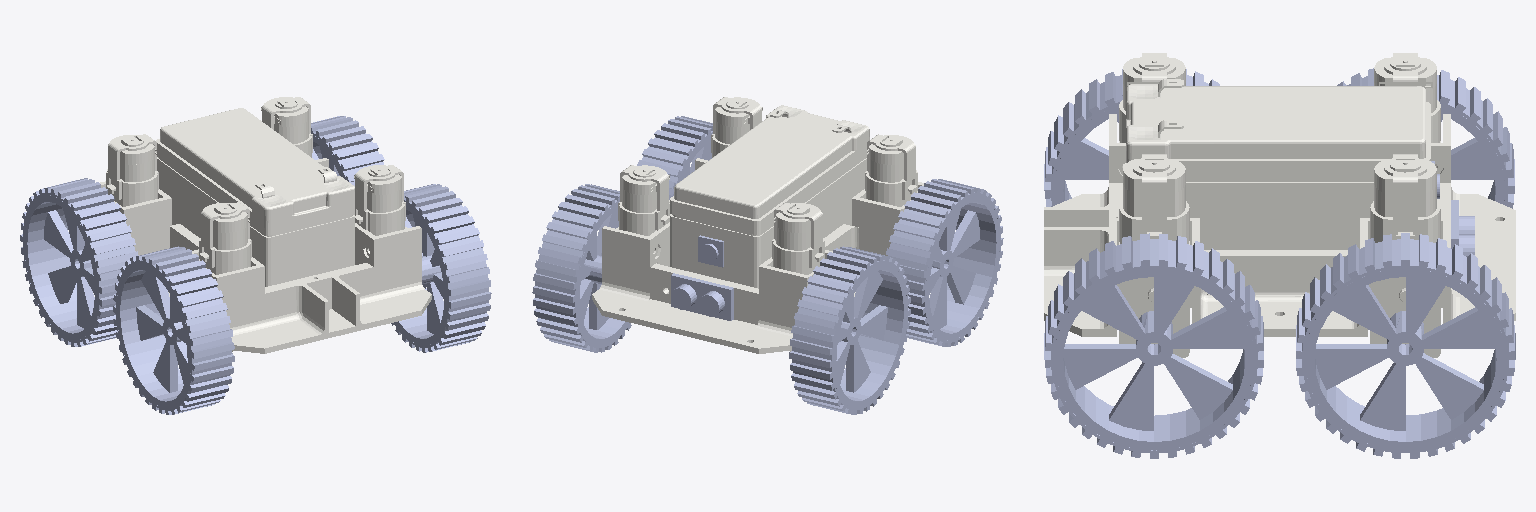
URDF robot description (car_model_v2):
<?xml version="1.0" encoding="utf-8"?>
<!-- This URDF was automatically created by SolidWorks to URDF Exporter! Originally created by [author] ([email redacted]) 
     Commit Version: 1.6.0-4-g7f85cfe  Build Version: 1.6.7995.38578
     For more information, please see http://wiki.ros.org/sw_urdf_exporter -->
<robot
  name="car_model_v2">
  <link
    name="base_link">
    <inertial>
      <origin
        xyz="0.00146931155818059 0.0202547315015083 0.00383279508656678"
        rpy="0 0 0" />
      <mass
        value="0.219401679394642" />
      <inertia
        ixx="0.000208124167049704"
        ixy="5.60378040345074E-09"
        ixz="3.36864713263349E-08"
        iyy="0.000263070736031005"
        iyz="-2.91877091751583E-07"
        izz="9.82049287222583E-05" />
    </inertial>
    <visual>
      <origin
        xyz="0 0 0"
        rpy="0 0 0" />
      <geometry>
        <mesh
          filename="package://car_model_v2/meshes/base_link.STL" />
      </geometry>
      <material
        name="">
        <color
          rgba="0.984313725490196 0.980392156862745 0.96078431372549 1" />
      </material>
    </visual>
    <collision>
      <origin
        xyz="0 0 0"
        rpy="0 0 0" />
      <geometry>
        <mesh
          filename="package://car_model_v2/meshes/base_link.STL" />
      </geometry>
    </collision>
  </link>
  <link
    name="fl_wheel_link">
    <inertial>
      <origin
        xyz="0.00933674073330586 0.00927693681691626 -0.0137980057502913"
        rpy="0 0 0" />
      <mass
        value="0.026419137801914" />
      <inertia
        ixx="2.21976511661251E-05"
        ixy="4.47703357237612E-16"
        ixz="2.16374537517752E-15"
        iyy="1.18489017629898E-05"
        iyz="-1.92054790503463E-14"
        izz="1.18487420682976E-05" />
    </inertial>
    <visual>
      <origin
        xyz="0 0 0"
        rpy="0 0 0" />
      <geometry>
        <mesh
          filename="package://car_model_v2/meshes/fl_wheel_link.STL" />
      </geometry>
      <material
        name="">
        <color
          rgba="0.792156862745098 0.819607843137255 0.933333333333333 1" />
      </material>
    </visual>
    <collision>
      <origin
        xyz="0 0 0"
        rpy="0 0 0" />
      <geometry>
        <mesh
          filename="package://car_model_v2/meshes/fl_wheel_link.STL" />
      </geometry>
    </collision>
  </link>
  <joint
    name="fl_wheel_joint"
    type="fixed">
    <origin
      xyz="-0.052447 0.050609 -0.0045225"
      rpy="1.5708 0 3.1416" />
    <parent
      link="base_link" />
    <child
      link="fl_wheel_link" />
    <axis
      xyz="0 0 0" />
  </joint>
  <link
    name="fr_wheel_link">
    <inertial>
      <origin
        xyz="0.00933674073330584 0.0092769368169169 -0.0137980057502909"
        rpy="0 0 0" />
      <mass
        value="0.026419137801914" />
      <inertia
        ixx="2.21976511661251E-05"
        ixy="4.47811464446858E-16"
        ixz="2.16381823941542E-15"
        iyy="1.18489017629898E-05"
        iyz="-1.92054815228219E-14"
        izz="1.18487420682976E-05" />
    </inertial>
    <visual>
      <origin
        xyz="0 0 0"
        rpy="0 0 0" />
      <geometry>
        <mesh
          filename="package://car_model_v2/meshes/fr_wheel_link.STL" />
      </geometry>
      <material
        name="">
        <color
          rgba="0.792156862745098 0.819607843137255 0.933333333333333 1" />
      </material>
    </visual>
    <collision>
      <origin
        xyz="0 0 0"
        rpy="0 0 0" />
      <geometry>
        <mesh
          filename="package://car_model_v2/meshes/fr_wheel_link.STL" />
      </geometry>
    </collision>
  </link>
  <joint
    name="fr_wheel_joint"
    type="fixed">
    <origin
      xyz="0.055629 0.027769 0.018468"
      rpy="0 0 0" />
    <parent
      link="base_link" />
    <child
      link="fr_wheel_link" />
    <axis
      xyz="0 0 0" />
  </joint>
  <link
    name="bl_wheel_link">
    <inertial>
      <origin
        xyz="0.00933674073330595 0.00927693681691626 -0.0137980057502909"
        rpy="0 0 0" />
      <mass
        value="0.026419137801914" />
      <inertia
        ixx="2.21976511661251E-05"
        ixy="4.47703179377387E-16"
        ixz="2.16381625694231E-15"
        iyy="1.18489017629898E-05"
        iyz="-1.92054821918823E-14"
        izz="1.18487420682976E-05" />
    </inertial>
    <visual>
      <origin
        xyz="0 0 0"
        rpy="0 0 0" />
      <geometry>
        <mesh
          filename="package://car_model_v2/meshes/bl_wheel_link.STL" />
      </geometry>
      <material
        name="">
        <color
          rgba="0.792156862745098 0.819607843137255 0.933333333333333 1" />
      </material>
    </visual>
    <collision>
      <origin
        xyz="0 0 0"
        rpy="0 0 0" />
      <geometry>
        <mesh
          filename="package://car_model_v2/meshes/bl_wheel_link.STL" />
      </geometry>
    </collision>
  </link>
  <joint
    name="bl_wheel_joint"
    type="fixed">
    <origin
      xyz="-0.052447 -0.052231 -0.0091276"
      rpy="-3.1416 0 -3.1416" />
    <parent
      link="base_link" />
    <child
      link="bl_wheel_link" />
    <axis
      xyz="0 0 0" />
  </joint>
  <link
    name="br_wheel_link">
    <inertial>
      <origin
        xyz="0.00933674073330602 0.00927693681691562 -0.0137980057502909"
        rpy="0 0 0" />
      <mass
        value="0.026419137801914" />
      <inertia
        ixx="2.21976511661251E-05"
        ixy="4.47596247242471E-16"
        ixz="2.16381736016141E-15"
        iyy="1.18489017629899E-05"
        iyz="-1.92054832982213E-14"
        izz="1.18487420682976E-05" />
    </inertial>
    <visual>
      <origin
        xyz="0 0 0"
        rpy="0 0 0" />
      <geometry>
        <mesh
          filename="package://car_model_v2/meshes/br_wheel_link.STL" />
      </geometry>
      <material
        name="">
        <color
          rgba="0.792156862745098 0.819607843137255 0.933333333333333 1" />
      </material>
    </visual>
    <collision>
      <origin
        xyz="0 0 0"
        rpy="0 0 0" />
      <geometry>
        <mesh
          filename="package://car_model_v2/meshes/br_wheel_link.STL" />
      </geometry>
    </collision>
  </link>
  <joint
    name="br_wheel_joint"
    type="fixed">
    <origin
      xyz="0.055629 -0.033677 -0.0091276"
      rpy="-3.1416 0 0" />
    <parent
      link="base_link" />
    <child
      link="br_wheel_link" />
    <axis
      xyz="0 0 0" />
  </joint>
  <link
    name="ultrasonic_link">
    <inertial>
      <origin
        xyz="-0.00199122837139814 0.00279169071619218 -3.46944695195361E-18"
        rpy="0 0 0" />
      <mass
        value="0.00191039816339745" />
      <inertia
        ixx="3.47286799039144E-08"
        ixy="1.65247761678118E-21"
        ixz="7.08999414871017E-24"
        iyy="1.53770737048943E-07"
        iyz="5.93681768119573E-24"
        izz="1.36494439910389E-07" />
    </inertial>
    <visual>
      <origin
        xyz="0 0 0"
        rpy="0 0 0" />
      <geometry>
        <mesh
          filename="package://car_model_v2/meshes/ultrasonic_link.STL" />
      </geometry>
      <material
        name="">
        <color
          rgba="0.792156862745098 0.819607843137255 0.933333333333333 1" />
      </material>
    </visual>
    <collision>
      <origin
        xyz="0 0 0"
        rpy="0 0 0" />
      <geometry>
        <mesh
          filename="package://car_model_v2/meshes/ultrasonic_link.STL" />
      </geometry>
    </collision>
  </link>
  <joint
    name="ultrasonic_joint"
    type="prismatic">
    <origin
      xyz="0 0.051648 0.01217"
      rpy="3.1416 0 3.1416" />
    <parent
      link="base_link" />
    <child
      link="ultrasonic_link" />
    <axis
      xyz="1 0 0" />
    <limit
      lower="0"
      upper="0"
      effort="0"
      velocity="0" />
  </joint>
  <link
    name="camera_link">
    <inertial>
      <origin
        xyz="3.22441726097189E-16 0.00113811950909846 1.52655665885959E-16"
        rpy="0 0 0" />
      <mass
        value="0.000291398223686155" />
      <inertia
        ixx="3.07398078263368E-09"
        ixy="1.8881694501457E-23"
        ixz="-5.46121795190631E-25"
        iyy="5.78718578948925E-09"
        iyz="-3.56408474223639E-27"
        izz="3.07398078263368E-09" />
    </inertial>
    <visual>
      <origin
        xyz="0 0 0"
        rpy="0 0 0" />
      <geometry>
        <mesh
          filename="package://car_model_v2/meshes/camera_link.STL" />
      </geometry>
      <material
        name="">
        <color
          rgba="0.792156862745098 0.819607843137255 0.933333333333333 1" />
      </material>
    </visual>
    <collision>
      <origin
        xyz="0 0 0"
        rpy="0 0 0" />
      <geometry>
        <mesh
          filename="package://car_model_v2/meshes/camera_link.STL" />
      </geometry>
    </collision>
  </link>
  <joint
    name="camera_joint"
    type="fixed">
    <origin
      xyz="0.00155886395139227 0.0450456398524161 0.031152378379546"
      rpy="-3.14159265358979 0 3.14159265358979" />
    <parent
      link="base_link" />
    <child
      link="camera_link" />
    <axis
      xyz="1 0 0" />
  </joint>
</robot>

--- Render facts (derived) ---
Views: 3 orthographic renders of the robot side by side, from view 1: azimuth 30°, elevation 25°; view 2: azimuth 150°, elevation 25°; view 3: azimuth 270°, elevation 25°.
Model car_model_v2 with 7 links and 6 joints (1 prismatic, 5 fixed), rooted at base_link, posed all joints at 0.
Links seen in each view (by area): view 1: base_link, bl_wheel_link, fl_wheel_link, br_wheel_link, fr_wheel_link; view 2: base_link, fl_wheel_link, bl_wheel_link, fr_wheel_link, br_wheel_link, ultrasonic_link, camera_link; view 3: base_link, fr_wheel_link, br_wheel_link, bl_wheel_link, fl_wheel_link, ultrasonic_link.
Link boxes in pixels (x1=…): base_link: x1=100, y1=97, x2=431, y2=353; bl_wheel_link: x1=113, y1=246, x2=234, y2=414; fl_wheel_link: x1=20, y1=178, x2=138, y2=346; br_wheel_link: x1=391, y1=184, x2=491, y2=352; fr_wheel_link: x1=311, y1=116, x2=384, y2=185; base_link: x1=592, y1=97, x2=923, y2=353; fl_wheel_link: x1=789, y1=246, x2=910, y2=414; bl_wheel_link: x1=886, y1=179, x2=1003, y2=346; fr_wheel_link: x1=532, y1=184, x2=631, y2=352; br_wheel_link: x1=637, y1=116, x2=712, y2=199; ultrasonic_link: x1=671, y1=273, x2=733, y2=320; camera_link: x1=698, y1=235, x2=723, y2=267; base_link: x1=1044, y1=53, x2=1515, y2=357; fr_wheel_link: x1=1296, y1=233, x2=1515, y2=458; br_wheel_link: x1=1044, y1=233, x2=1263, y2=458; bl_wheel_link: x1=1044, y1=69, x2=1219, y2=206; fl_wheel_link: x1=1337, y1=68, x2=1514, y2=208; ultrasonic_link: x1=1451, y1=200, x2=1474, y2=256.
Size in the robot's own frame: 0.1474 by 0.15 by 0.0905 metres.
Meshes: 7 distinct files referenced, 7 mesh visuals loaded (7 binary STL).